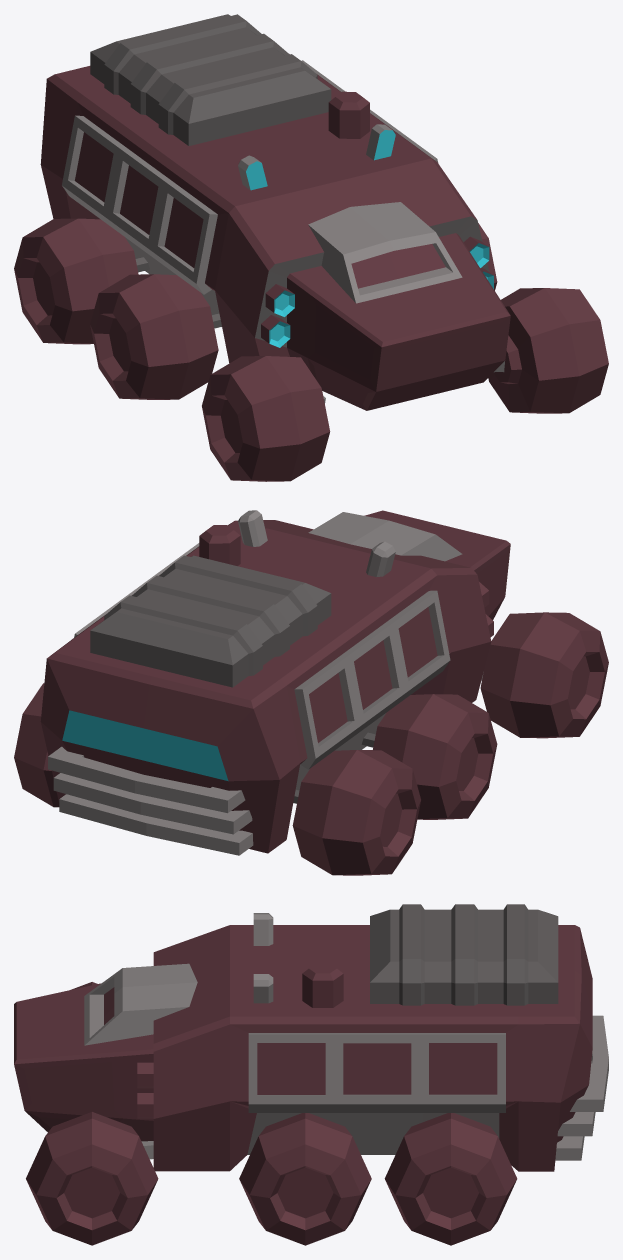
The model's file is scifi-ranger.fbx.
The picture shows the model from 3 angles, top to bottom: view 1: azimuth 30°, elevation 25°; view 2: azimuth 150°, elevation 25°; view 3: azimuth 270°, elevation 25°; orthographic projection. The views are drawn at different scales.
Visible parts, largest first — view 1: scifi-ranger-base, scifi-ranger-wheel-FR, scifi-ranger-wheel-MR, scifi-ranger-wheel-FL, scifi-ranger-wheel-BR; view 2: scifi-ranger-base, scifi-ranger-wheel-FR, scifi-ranger-wheel-BR, scifi-ranger-wheel-MR, scifi-ranger-wheel-BL; view 3: scifi-ranger-base, scifi-ranger-wheel-FL, scifi-ranger-wheel-ML, scifi-ranger-wheel-BL.
Part boxes in pixels (x1=…): scifi-ranger-base: x1=40, y1=14, x2=510, y2=410; scifi-ranger-wheel-FR: x1=202, y1=356, x2=330, y2=481; scifi-ranger-wheel-MR: x1=90, y1=274, x2=218, y2=399; scifi-ranger-wheel-FL: x1=488, y1=288, x2=608, y2=413; scifi-ranger-wheel-BR: x1=14, y1=218, x2=138, y2=344; scifi-ranger-base: x1=40, y1=510, x2=510, y2=855; scifi-ranger-wheel-FR: x1=480, y1=612, x2=608, y2=738; scifi-ranger-wheel-BR: x1=292, y1=750, x2=420, y2=875; scifi-ranger-wheel-MR: x1=373, y1=694, x2=497, y2=819; scifi-ranger-wheel-BL: x1=14, y1=683, x2=59, y2=807; scifi-ranger-base: x1=14, y1=904, x2=608, y2=1171; scifi-ranger-wheel-FL: x1=26, y1=1112, x2=158, y2=1245; scifi-ranger-wheel-ML: x1=239, y1=1113, x2=371, y2=1245; scifi-ranger-wheel-BL: x1=384, y1=1113, x2=517, y2=1245.
Size of the model in its own units: 6.04 by 4.04 by 8.99.
